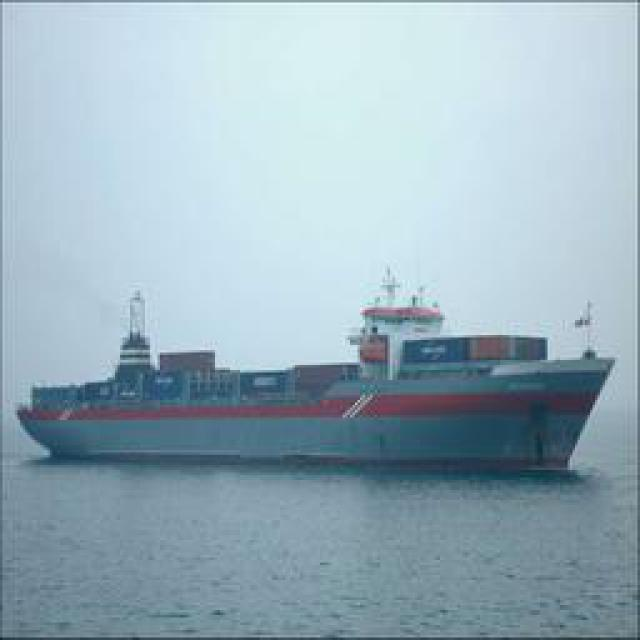Ship: (13, 290, 621, 473)
